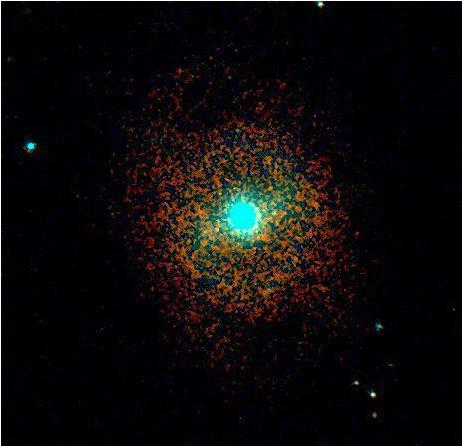star: (258, 199, 288, 229)
